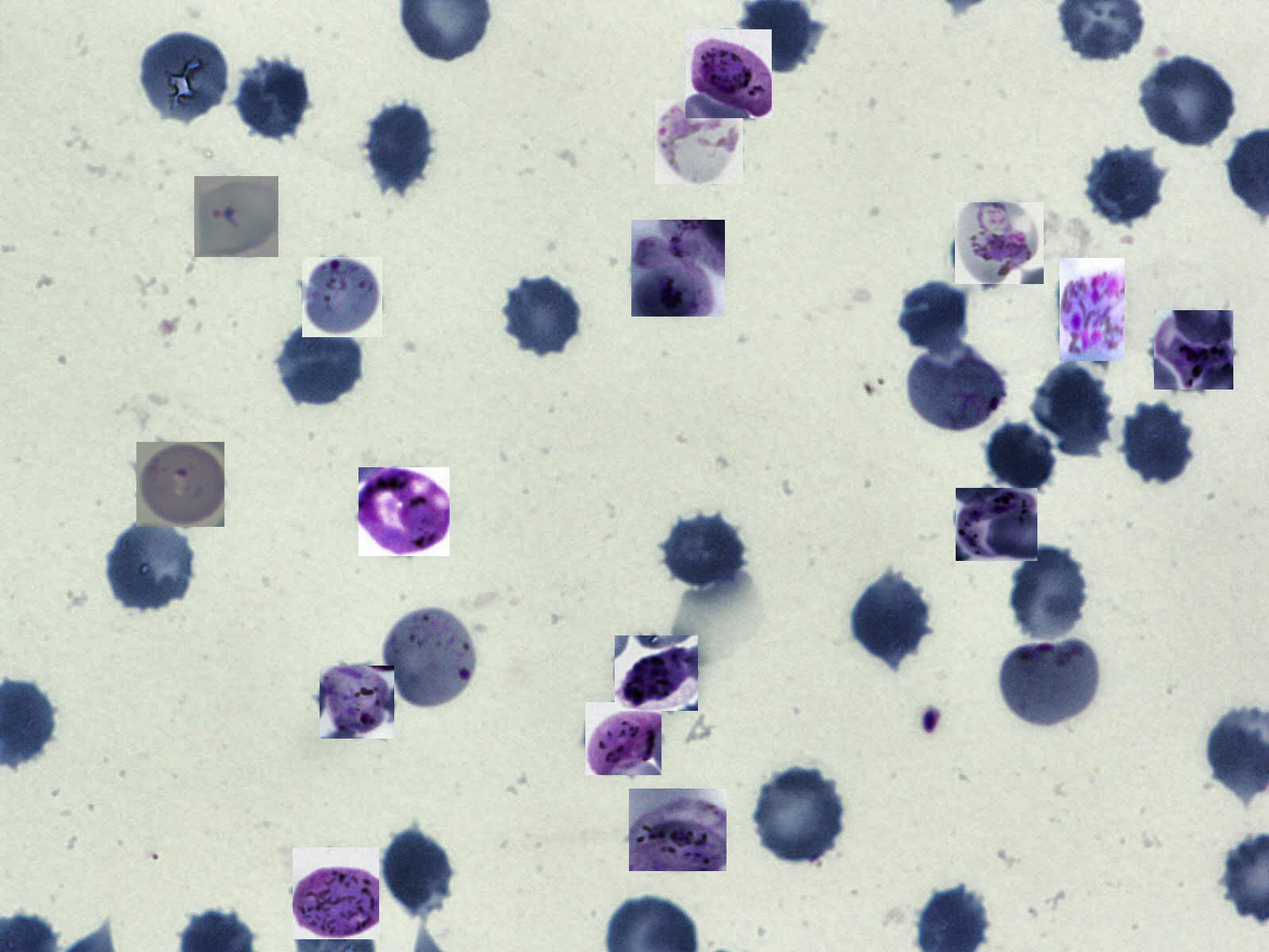Infected: (380, 604, 476, 711), (997, 636, 1102, 727), (631, 221, 725, 317), (905, 347, 1006, 433), (358, 467, 450, 556), (629, 789, 727, 871), (293, 847, 379, 939), (685, 29, 772, 118), (137, 442, 224, 527), (656, 100, 744, 184), (955, 202, 1044, 284), (194, 176, 278, 257), (1060, 259, 1125, 362), (302, 257, 382, 337), (1154, 310, 1233, 390), (615, 635, 698, 711), (956, 488, 1037, 561), (585, 702, 661, 775), (320, 666, 394, 739)
Uninfected: (753, 766, 847, 865), (1140, 54, 1238, 148), (139, 30, 231, 125), (105, 519, 197, 612), (1009, 543, 1091, 643), (1033, 363, 1115, 453), (851, 573, 930, 661), (381, 827, 455, 917), (661, 513, 746, 591), (362, 102, 435, 192), (278, 327, 363, 404), (234, 58, 312, 140), (504, 275, 581, 355), (1085, 148, 1164, 224), (1123, 401, 1194, 483), (899, 278, 972, 353), (983, 420, 1056, 494)
